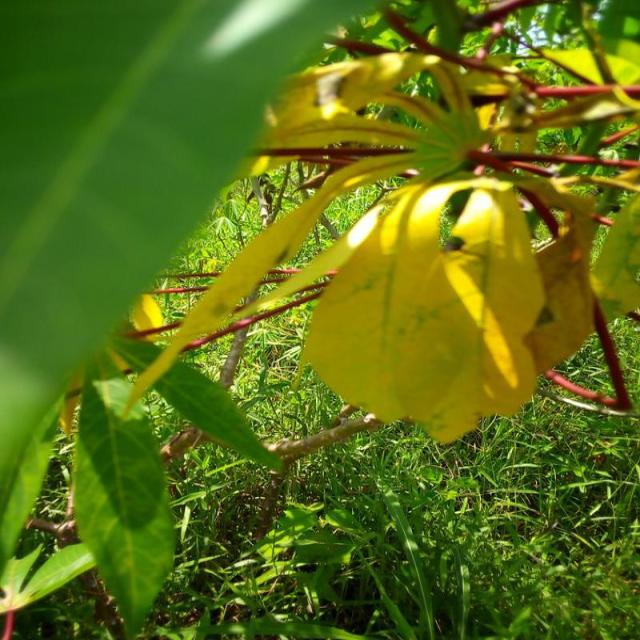cassava leaf: (299, 173, 547, 444), (71, 374, 177, 637)
